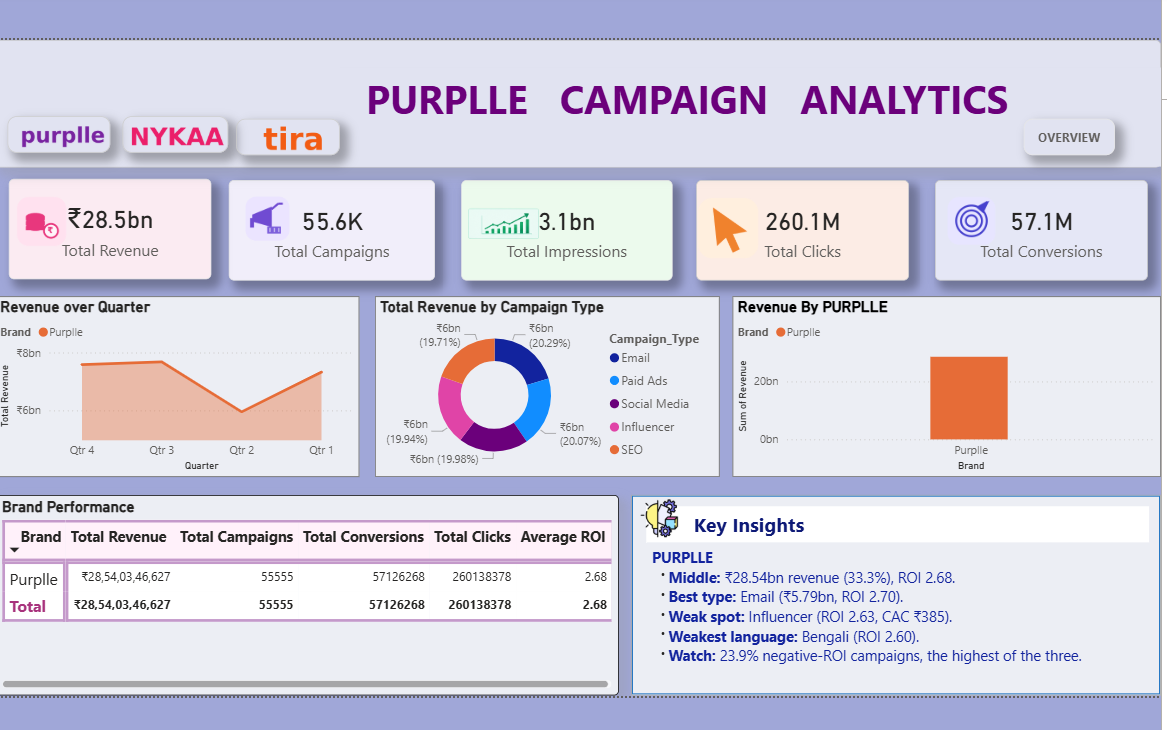

This screenshot's page, from the dashboard's own definition file:
{"tool":"powerbi","page":{"name":"PURPLLE 2","canvas":[1280,720],"ordinal":2},"visuals":[{"type":"card","fields":{"Values":["Tira_Purplle_Nykaa_Marketing_Campaign_Analytics_166665.Total Campaigns"]},"box":[256.7,153.3,226.7,110],"z":0},{"type":"card","fields":{"Values":["Tira_Purplle_Nykaa_Marketing_Campaign_Analytics_166665.Total Impressions"]},"box":[511.7,153.3,231.7,110],"z":1000},{"type":"card","fields":{"Values":["Tira_Purplle_Nykaa_Marketing_Campaign_Analytics_166665.Total Revenue"]},"box":[14.7,152.9,222.6,110.1],"z":2000},{"type":"card","fields":{"Values":["Tira_Purplle_Nykaa_Marketing_Campaign_Analytics_166665.Total Clicks"]},"box":[770,153.3,233.3,110],"z":3000},{"type":"card","fields":{"Values":["Tira_Purplle_Nykaa_Marketing_Campaign_Analytics_166665.Total Conversions"]},"box":[1031.7,153.3,233.3,110],"z":4000},{"type":"textbox","box":[0,0,1280.3,140],"z":5000},{"type":"areaChart","title":"Revenue over Quarter","fields":{"Category":["Tira_Purplle_Nykaa_Marketing_Campaign_Analytics_166665.Date.Variation.Date Hierarchy.Year","Tira_Purplle_Nykaa_Marketing_Campaign_Analytics_166665.Date.Variation.Date Hierarchy.Quarter","Tira_Purplle_Nykaa_Marketing_Campaign_Analytics_166665.Date.Variation.Date Hierarchy.Month","Tira_Purplle_Nykaa_Marketing_Campaign_Analytics_166665.Date.Variation.Date Hierarchy.Day"],"Y":["Tira_Purplle_Nykaa_Marketing_Campaign_Analytics_166665.Total Revenue"],"Series":["Tira_Purplle_Nykaa_Marketing_Campaign_Analytics_166665.Brand"]},"box":[0,281.7,400,198.3],"z":6000},{"type":"donutChart","title":"Total Revenue by Campaign Type","fields":{"Category":["Tira_Purplle_Nykaa_Marketing_Campaign_Analytics_166665.Campaign_Type"],"Y":["Tira_Purplle_Nykaa_Marketing_Campaign_Analytics_166665.Total Revenue"]},"box":[416.7,281.7,378.3,198.3],"z":7000},{"type":"clusteredColumnChart","title":"Revenue By PURPLLE","fields":{"Y":["Sum(Tira_Purplle_Nykaa_Marketing_Campaign_Analytics_166665.Revenue)"],"Category":["Tira_Purplle_Nykaa_Marketing_Campaign_Analytics_166665.Brand"],"Series":["Tira_Purplle_Nykaa_Marketing_Campaign_Analytics_166665.Brand"]},"box":[810,281.7,470,198.3],"z":8000},{"type":"pivotTable","title":"Brand Performance","fields":{"Rows":["Tira_Purplle_Nykaa_Marketing_Campaign_Analytics_166665.Brand"],"Values":["Tira_Purplle_Nykaa_Marketing_Campaign_Analytics_166665.Total Revenue","Tira_Purplle_Nykaa_Marketing_Campaign_Analytics_166665.Total Campaigns","Tira_Purplle_Nykaa_Marketing_Campaign_Analytics_166665.Total Conversions","Tira_Purplle_Nykaa_Marketing_Campaign_Analytics_166665.Total Clicks","Tira_Purplle_Nykaa_Marketing_Campaign_Analytics_166665.Average ROI"]},"box":[0,500.1,684.8,220.1],"z":9000},{"type":"shape","box":[698.3,500,581.7,220],"z":10000},{"type":"textbox","box":[715,511.7,551.7,40],"z":11000},{"type":"image","box":[114.9,63.6,168.8,81.9],"z":12000},{"type":"image","box":[0,64.8,149.2,81.9],"z":13000},{"type":"image","box":[222.6,6.1,211.6,201.8],"z":14000},{"type":"image","box":[1002.7,163.9,137,70.9],"z":15000},{"type":"image","box":[761.7,163.3,86.7,86.7],"z":16000},{"type":"image","box":[256.8,163.9,84.4,66],"z":17000},{"type":"image","box":[14.7,121.1,72.1,156.5],"z":18000},{"type":"image","box":[511.7,140,93.3,123.3],"z":19000},{"type":"image","box":[681.7,500,95,51.7],"z":20000},{"type":"textbox","box":[379.1,30.6,901.2,108.8],"z":21000},{"type":"actionButton","title":" VVVVV","box":[1128.7,86.8,100.3,40.4],"z":22000},{"type":"actionButton","box":[13.5,84.4,112.5,40.4],"z":23000},{"type":"actionButton","box":[140.6,84.4,116.2,40.4],"z":24000},{"type":"actionButton","box":[265.4,86.8,113.7,40.4],"z":25000},{"type":"textbox","box":[716.3,551.6,550.3,157.8],"z":26000}]}

Visuals, with their boxes on the page's 1280x720 design canvas (x1, y1, x2, y2). These are canvas units, not pixel positions in the 1167x730 screenshot, which may show the page scaled, cropped or inside an application window:
card - Tira_Purplle_Nykaa_Marketing_Campaign_Analytics_166665.Total Campaigns: l=257, t=153, r=483, b=263
card - Tira_Purplle_Nykaa_Marketing_Campaign_Analytics_166665.Total Impressions: l=512, t=153, r=743, b=263
card - Tira_Purplle_Nykaa_Marketing_Campaign_Analytics_166665.Total Revenue: l=15, t=153, r=237, b=263
card - Tira_Purplle_Nykaa_Marketing_Campaign_Analytics_166665.Total Clicks: l=770, t=153, r=1003, b=263
card - Tira_Purplle_Nykaa_Marketing_Campaign_Analytics_166665.Total Conversions: l=1032, t=153, r=1265, b=263
textbox: l=0, t=0, r=1280, b=140
"Revenue over Quarter" areaChart: l=0, t=282, r=400, b=480
"Total Revenue by Campaign Type" donutChart: l=417, t=282, r=795, b=480
"Revenue By PURPLLE" clusteredColumnChart: l=810, t=282, r=1280, b=480
"Brand Performance" pivotTable: l=0, t=500, r=685, b=720
shape: l=698, t=500, r=1280, b=720
textbox: l=715, t=512, r=1267, b=552
image: l=115, t=64, r=284, b=146
image: l=0, t=65, r=149, b=147
image: l=223, t=6, r=434, b=208
image: l=1003, t=164, r=1140, b=235
image: l=762, t=163, r=848, b=250
image: l=257, t=164, r=341, b=230
image: l=15, t=121, r=87, b=278
image: l=512, t=140, r=605, b=263
image: l=682, t=500, r=777, b=552
textbox: l=379, t=31, r=1280, b=139
" VVVVV" actionButton: l=1129, t=87, r=1229, b=127
actionButton: l=14, t=84, r=126, b=125
actionButton: l=141, t=84, r=257, b=125
actionButton: l=265, t=87, r=379, b=127
textbox: l=716, t=552, r=1267, b=709
